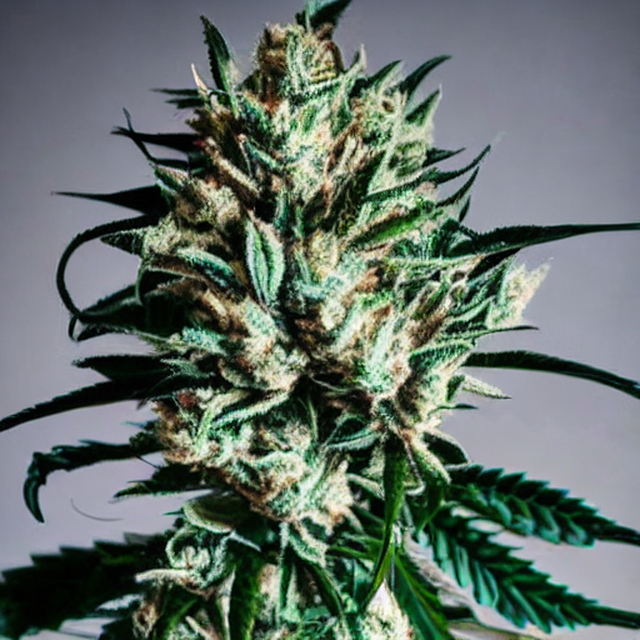Marijuana Plant: (0, 0, 640, 640), (0, 82, 640, 639)
